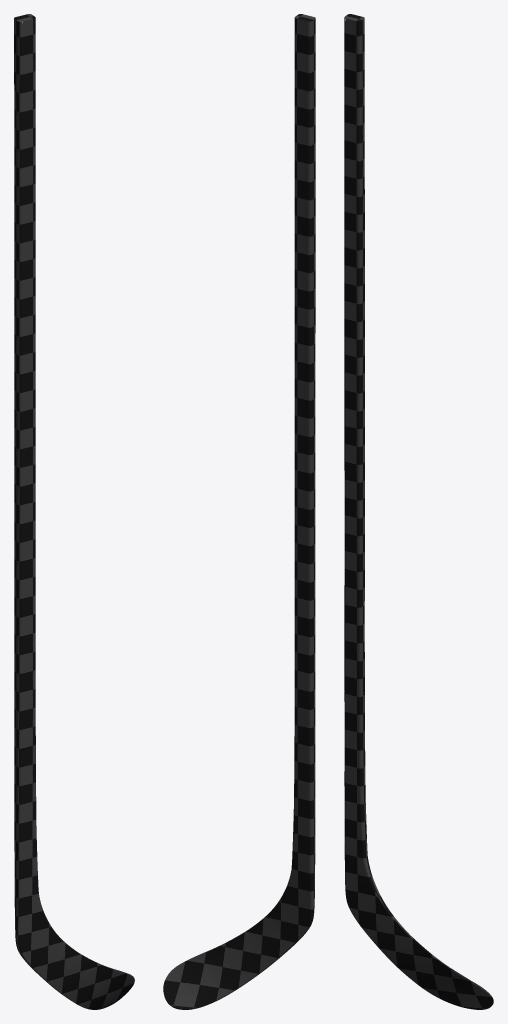
3 views of the same model, side by side, from view 1: azimuth 30°, elevation 25°; view 2: azimuth 150°, elevation 25°; view 3: azimuth 330°, elevation 25° (orthographic). The views are drawn at different scales.
Parts seen in each view (by area): view 1: geometry_0; view 2: geometry_0; view 3: geometry_0.
Boxes of the visible parts, x1,y1,x2,y2 form: geometry_0: (14,14,134,1009); geometry_0: (163,14,315,1009); geometry_0: (344,14,493,1009).
Bounding box in the file's own units: 228 × 1650 × 77.25.
1 material, 1 textured.
